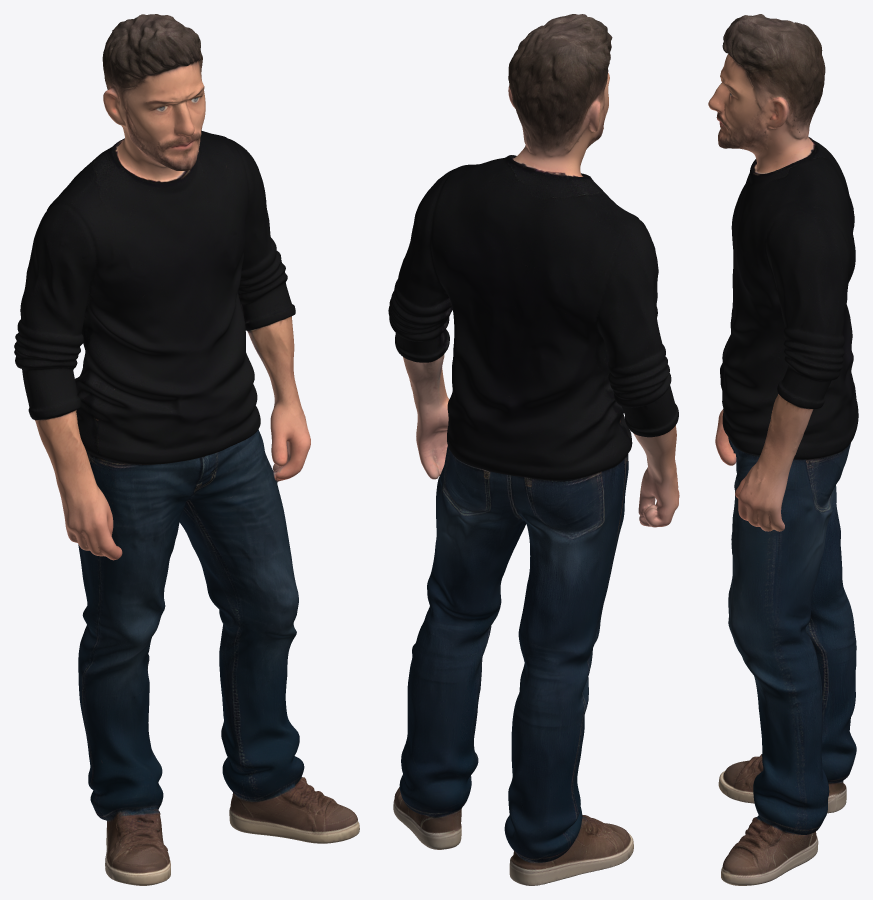
File: Meshy_AI_Casual_Confidence_0421161928_texture.fbx
3 views of the same model, side by side, from view 1: azimuth 30°, elevation 25°; view 2: azimuth 150°, elevation 25°; view 3: azimuth 270°, elevation 25° (orthographic). The views are drawn at different scales.
Parts seen in each view (by area): view 1: Mesh_0; view 2: Mesh_0; view 3: Mesh_0.
Boxes of the visible parts, left/top/right/bottom form: Mesh_0: left=14, top=14, right=359, bottom=885; Mesh_0: left=388, top=14, right=679, bottom=885; Mesh_0: left=708, top=14, right=858, bottom=885.
Size of the model in its own units: 67.54 by 180 by 31.18.
1 material, 1 textured.
